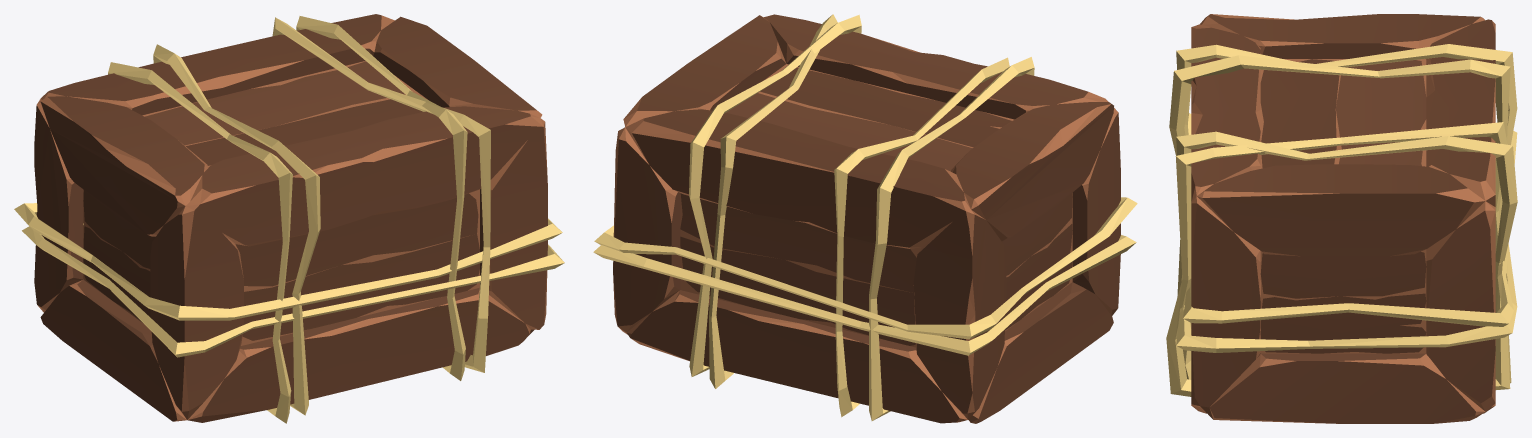
3 views of the same model, side by side, from view 1: azimuth 30°, elevation 25°; view 2: azimuth 150°, elevation 25°; view 3: azimuth 270°, elevation 25° (orthographic). The views are drawn at different scales.
Visible parts, largest first — view 1: Wooden_box_A_01; view 2: Wooden_box_A_01; view 3: Wooden_box_A_01.
Boxes of the visible parts, x1,y1,x2,y2 form: Wooden_box_A_01: [14, 14, 564, 423]; Wooden_box_A_01: [593, 14, 1137, 423]; Wooden_box_A_01: [1166, 14, 1517, 423].
Bounding box in the file's own units: 107 × 68.56 × 81.44.
